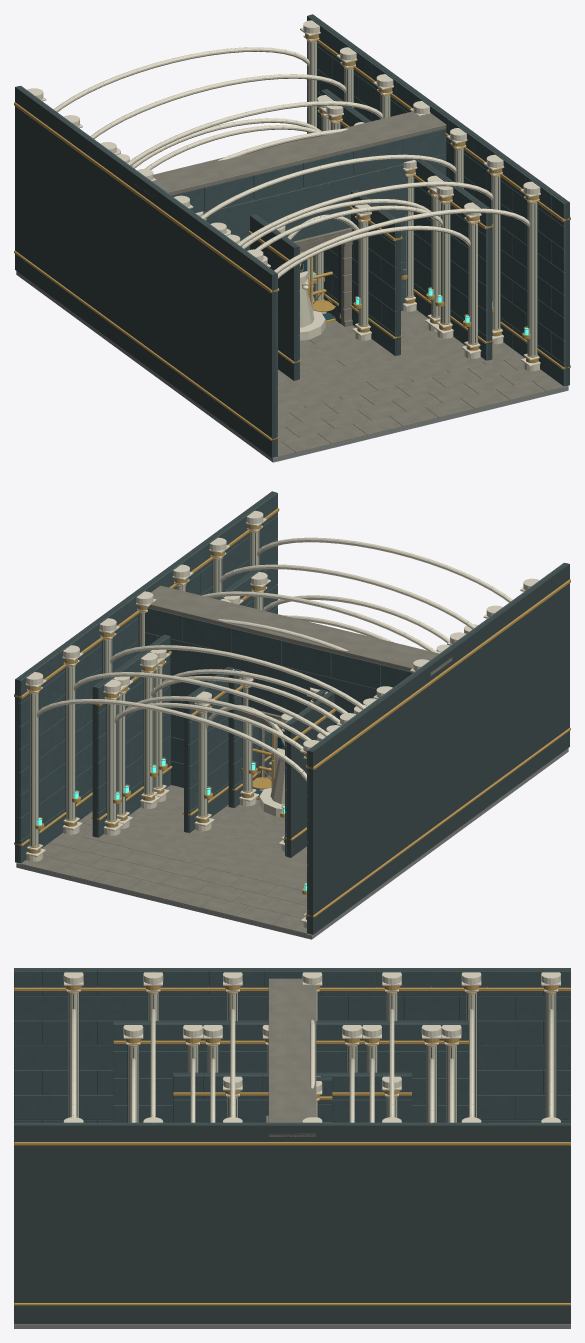
File: balance-temple-v07.glb
3 renders of one model, top to bottom at view 1: azimuth 30°, elevation 25°; view 2: azimuth 150°, elevation 25°; view 3: azimuth 270°, elevation 25°, orthographic. The views are drawn at different scales.
Parts seen in each view (by area): view 1: hall_lever_Balance wall backing, hall_lever_Balance paving limestone, hall_lever_Balance wall ashlar, hall_lever_Carved limestone, portal18_Balance wall ashlar, portal18_Balance portal limestone, hall_order_Balance wall ashlar, hall_lever_Ivory limestone, hall_entry_Balance wall ashlar, hall_order_Carved limestone, portal14_Balance wall ashlar, hall_entry_Balance wall backing (+22 smaller); view 2: hall_lever_Balance wall backing, hall_lever_Balance paving limestone, hall_lever_Balance wall ashlar, hall_lever_Carved limestone, portal18_Balance wall ashlar, portal18_Balance portal limestone, portal14_Balance wall ashlar, hall_order_Carved limestone, hall_lever_Ivory limestone, hall_lever_Aged brass, hall_entry_Balance wall ashlar, hall_order_Balance wall ashlar (+21 smaller); view 3: hall_lever_Balance wall backing, hall_lever_Balance wall ashlar, hall_order_Balance wall ashlar, portal18_Balance wall backing, hall_lever_Carved limestone, portal18_Balance portal limestone, hall_lever_Aged brass, hall_entry_Balance wall ashlar, hall_twin_Balance wall ashlar, hall_lever_Ivory limestone, Paving foundation hall_lever, hall_order_Carved limestone (+13 smaller).
Part boxes in pixels (x1=…): hall_lever_Balance wall backing: x1=15, y1=14, x2=569, y2=457; hall_lever_Balance paving limestone: x1=277, y1=310, x2=563, y2=456; hall_lever_Balance wall ashlar: x1=20, y1=15, x2=565, y2=456; hall_lever_Carved limestone: x1=27, y1=20, x2=540, y2=371; portal18_Balance wall ashlar: x1=171, y1=128, x2=446, y2=308; portal18_Balance portal limestone: x1=133, y1=111, x2=446, y2=197; hall_order_Balance wall ashlar: x1=321, y1=90, x2=487, y2=360; hall_lever_Ivory limestone: x1=307, y1=40, x2=537, y2=356; hall_entry_Balance wall ashlar: x1=254, y1=190, x2=396, y2=379; hall_order_Carved limestone: x1=116, y1=95, x2=481, y2=358; portal14_Balance wall ashlar: x1=205, y1=167, x2=414, y2=323; hall_entry_Balance wall backing: x1=250, y1=189, x2=400, y2=380; hall_lever_Balance wall backing: x1=15, y1=491, x2=569, y2=934; hall_lever_Balance paving limestone: x1=21, y1=785, x2=307, y2=933; hall_lever_Balance wall ashlar: x1=19, y1=492, x2=564, y2=933; hall_lever_Carved limestone: x1=25, y1=510, x2=539, y2=928; portal18_Balance wall ashlar: x1=138, y1=608, x2=413, y2=787; portal18_Balance portal limestone: x1=148, y1=585, x2=452, y2=675; portal14_Balance wall ashlar: x1=170, y1=643, x2=376, y2=787; hall_order_Carved limestone: x1=103, y1=572, x2=478, y2=835; hall_lever_Ivory limestone: x1=29, y1=530, x2=259, y2=846; hall_lever_Aged brass: x1=14, y1=508, x2=570, y2=919; hall_entry_Balance wall ashlar: x1=188, y1=667, x2=330, y2=856; hall_order_Balance wall ashlar: x1=97, y1=569, x2=263, y2=837; hall_lever_Balance wall backing: x1=14, y1=968, x2=570, y2=1323; hall_lever_Balance wall ashlar: x1=14, y1=970, x2=570, y2=1123; hall_order_Balance wall ashlar: x1=113, y1=1023, x2=468, y2=1122; portal18_Balance wall backing: x1=270, y1=1137, x2=314, y2=1323; hall_lever_Carved limestone: x1=63, y1=971, x2=560, y2=1123; portal18_Balance portal limestone: x1=268, y1=978, x2=316, y2=1136; hall_lever_Aged brass: x1=14, y1=986, x2=570, y2=1305; hall_entry_Balance wall ashlar: x1=173, y1=1075, x2=411, y2=1123; hall_twin_Balance wall ashlar: x1=134, y1=1023, x2=451, y2=1122; hall_lever_Ivory limestone: x1=68, y1=992, x2=556, y2=1117; Paving foundation hall_lever: x1=14, y1=1324, x2=570, y2=1328; hall_order_Carved limestone: x1=123, y1=1025, x2=461, y2=1122.
Bounding box in the file's own units: 18.91 × 11.3 × 28.
14 materials, 3 textured.
